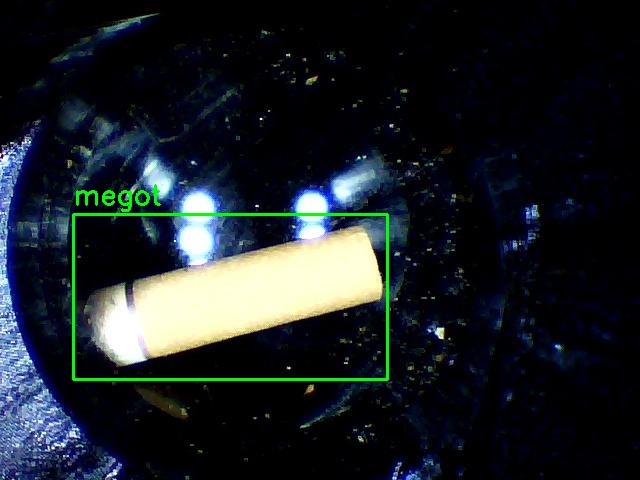megot: (73, 214, 387, 379)
